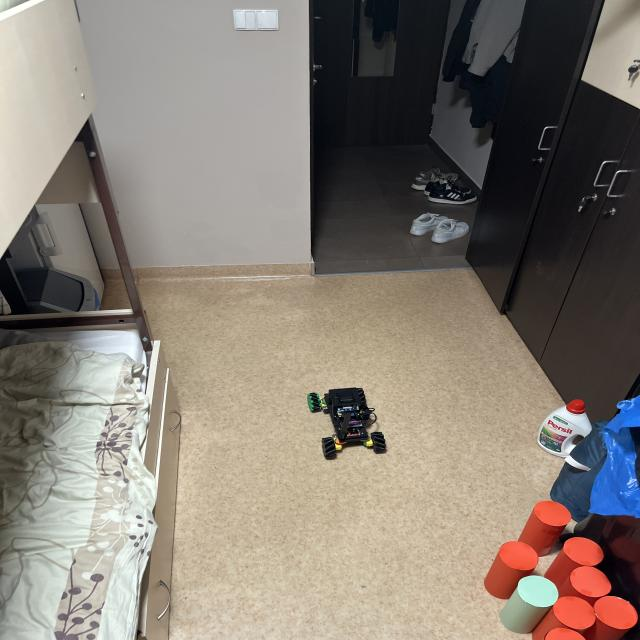robot: (308, 387, 386, 459)
